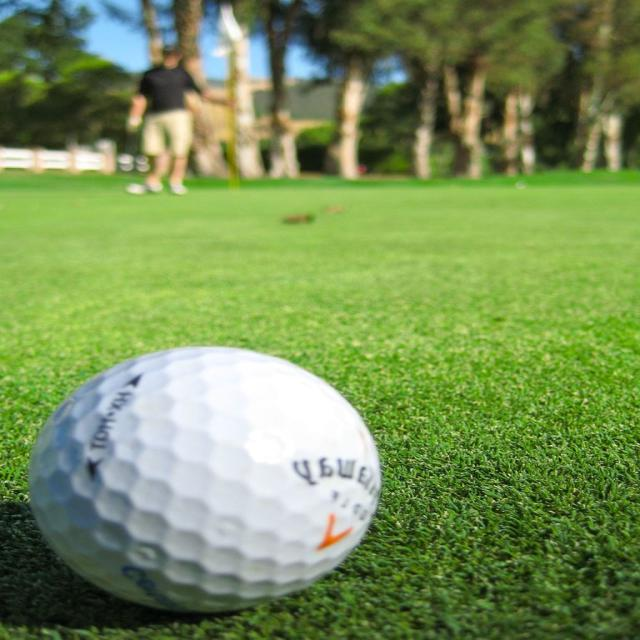Ball: (27, 346, 382, 611)
